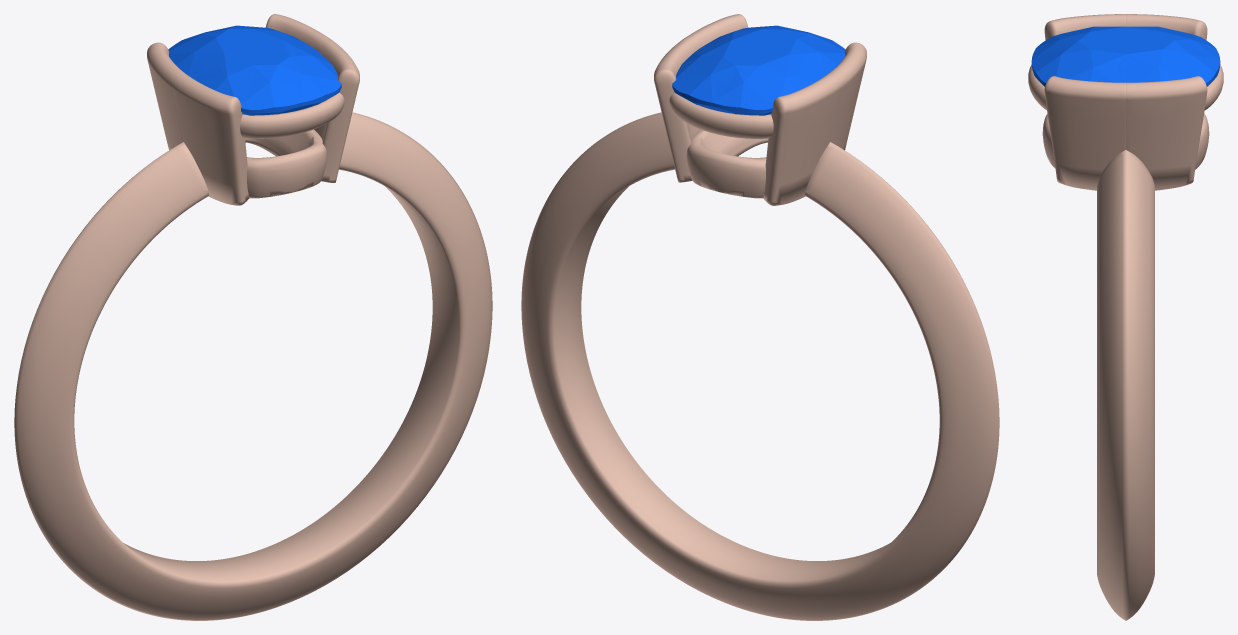
File: bluesapphire-cushion-rosegold-halfmoonbezel-knifeedge-nosidestones.glb
The picture shows the model from 3 angles, left to right: view 1: azimuth 30°, elevation 25°; view 2: azimuth 150°, elevation 25°; view 3: azimuth 270°, elevation 25°; orthographic projection. The views are drawn at different scales.
Parts seen in each view (by area): view 1: metal.002, stone; view 2: metal.002, stone; view 3: metal.002, stone.
Boxes of the visible parts, x1,y1,x2,y2 form: metal.002: (14,14,492,620); stone: (168,25,341,115); metal.002: (521,14,999,620); stone: (672,25,845,115); metal.002: (1028,14,1223,620); stone: (1031,26,1220,86).
Bounding box in the file's own units: 20.5 × 23.24 × 7.42.
